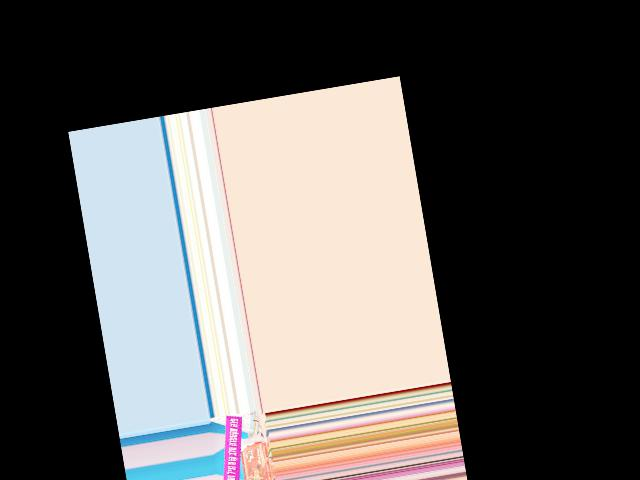chocolate: (235, 433, 278, 480)
